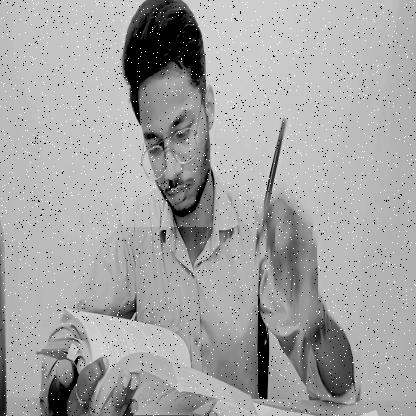Distracted: (122, 0, 214, 227)
